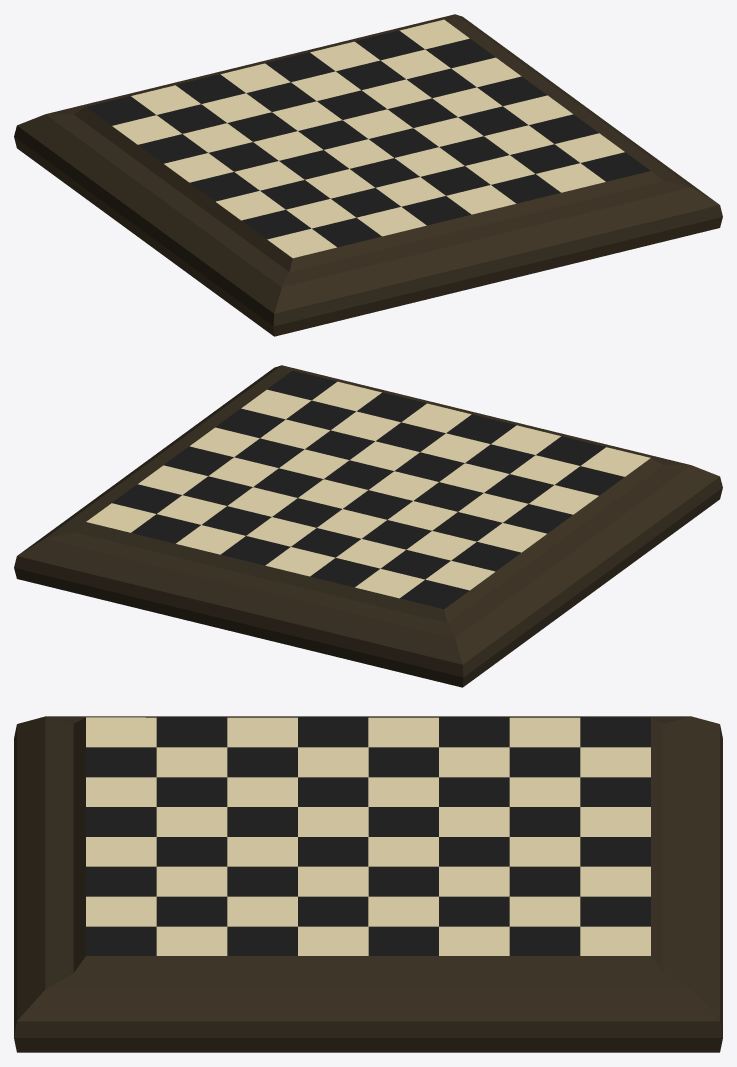
File: ChessPieces 1.fbx
3 views of the same model, one above another, from view 1: azimuth 30°, elevation 25°; view 2: azimuth 150°, elevation 25°; view 3: azimuth 270°, elevation 25° (orthographic). The views are drawn at different scales.
Parts seen in each view (by area): view 1: Cube; view 2: Cube; view 3: Cube.
Part boxes in pixels (bbox=[...]): Cube: bbox=[14, 14, 722, 336]; Cube: bbox=[14, 365, 722, 687]; Cube: bbox=[14, 716, 722, 1052].
Size of the model in its own units: 1008 by 106 by 1008.
